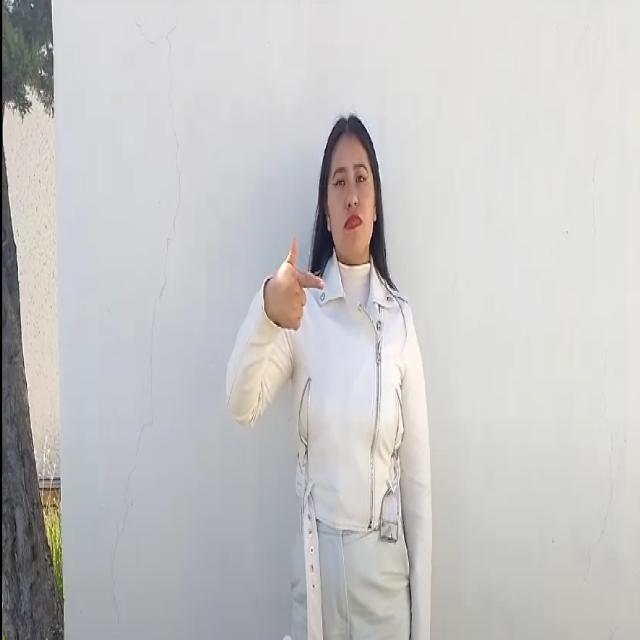G: (252, 236, 330, 344)
